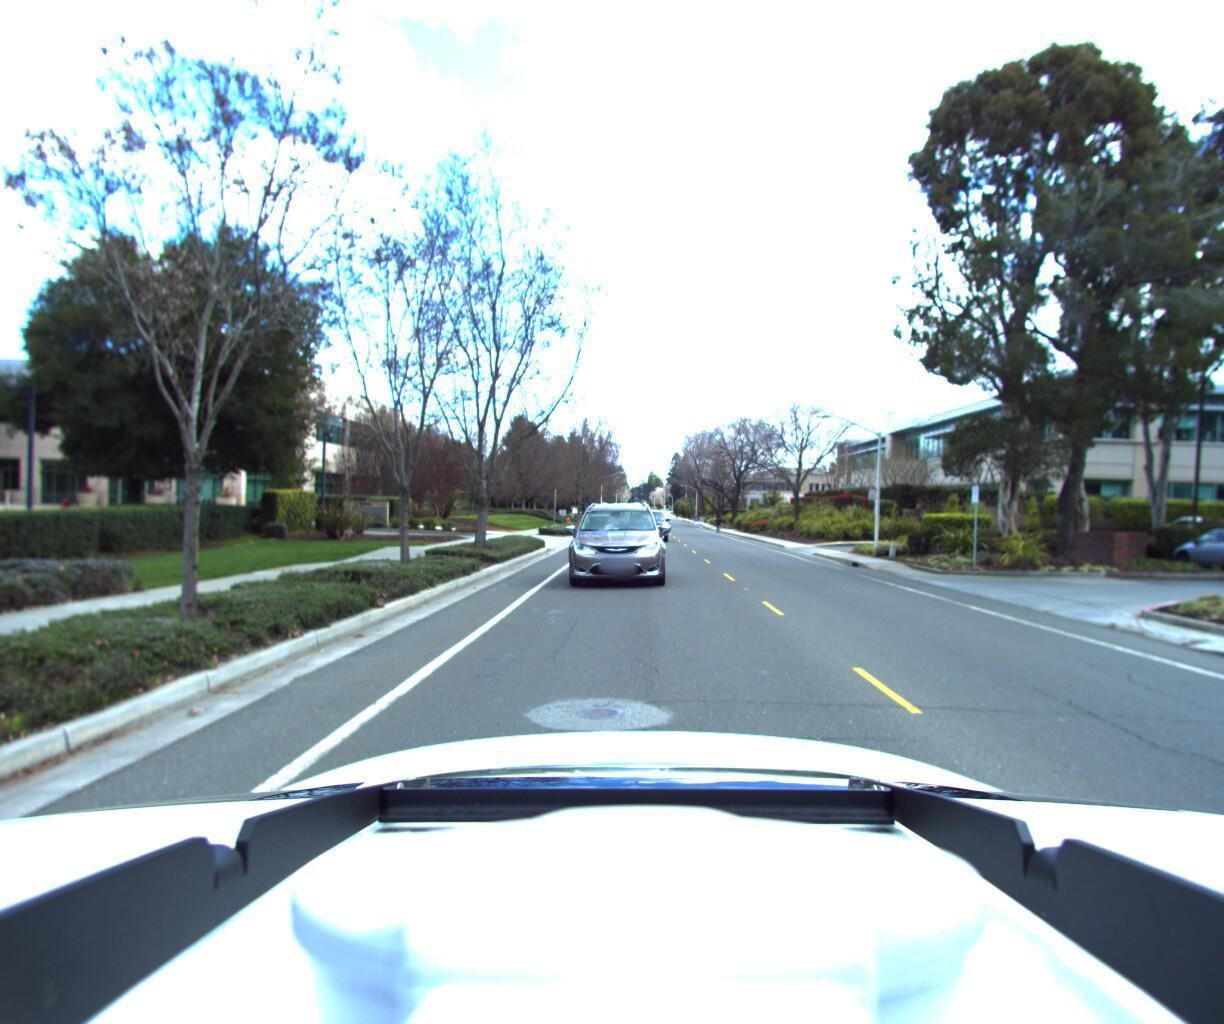bicycle: (712, 520, 724, 542)
car: (557, 503, 666, 603)
